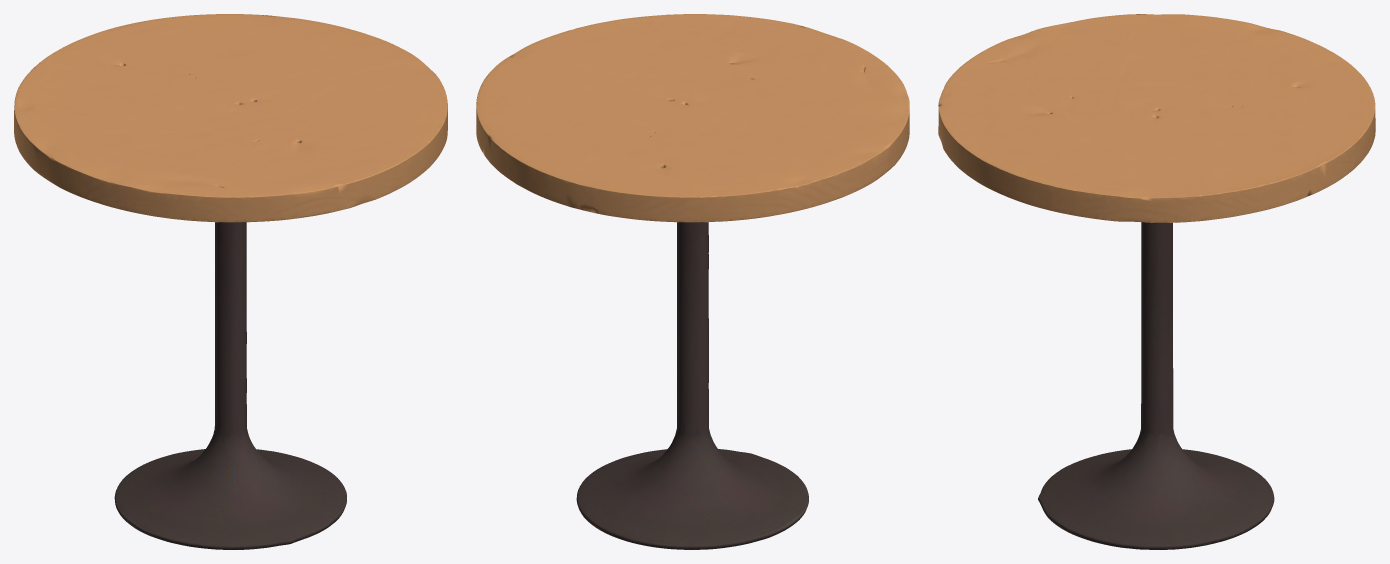
Rendered from stand_table.glb.
3 renders of one model, left to right at view 1: azimuth 30°, elevation 25°; view 2: azimuth 150°, elevation 25°; view 3: azimuth 270°, elevation 25°, orthographic.
Parts seen in each view (by area): view 1: tripo_node_0e4b27b9-18ae-43fd-a6a3-e53b8dea4318; view 2: tripo_node_0e4b27b9-18ae-43fd-a6a3-e53b8dea4318; view 3: tripo_node_0e4b27b9-18ae-43fd-a6a3-e53b8dea4318.
Boxes of the visible parts, x1,y1,x2,y2 form: tripo_node_0e4b27b9-18ae-43fd-a6a3-e53b8dea4318: (14, 14, 447, 549); tripo_node_0e4b27b9-18ae-43fd-a6a3-e53b8dea4318: (476, 14, 909, 549); tripo_node_0e4b27b9-18ae-43fd-a6a3-e53b8dea4318: (938, 14, 1375, 549).
Bounding box in the file's own units: 0.999 × 1 × 1.
Materials: 1 (1 with a texture image).
